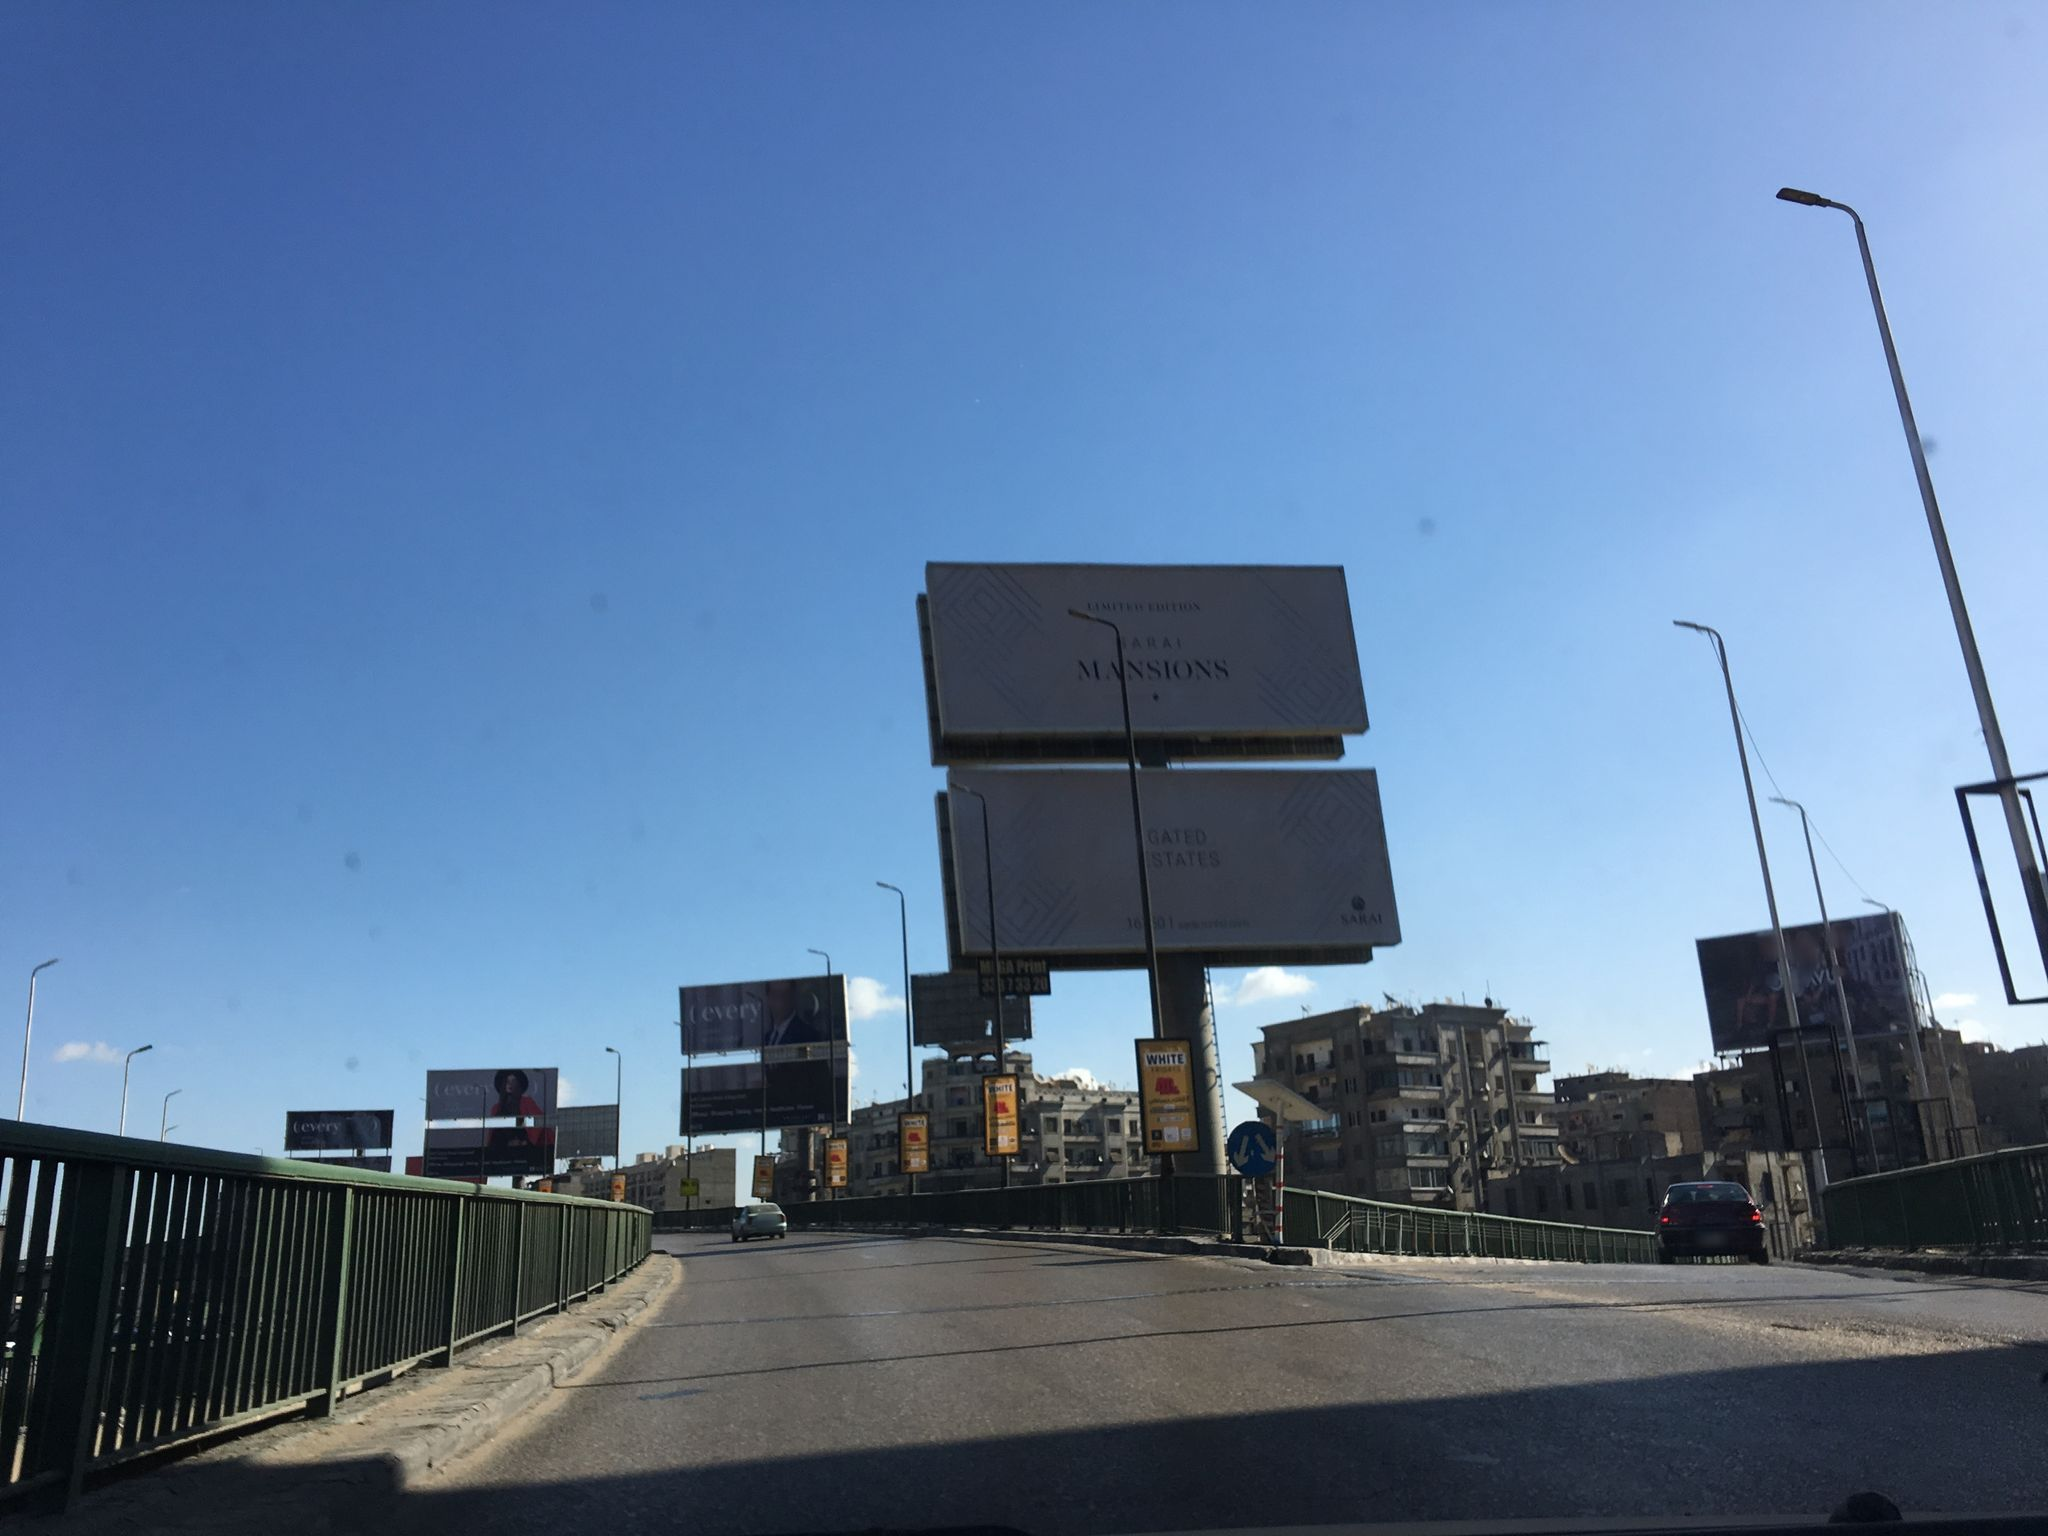car: (1650, 1181, 1769, 1265), (731, 1202, 787, 1239)
